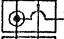Single Phase Tap-Off Unit: (0, 0, 59, 36)
